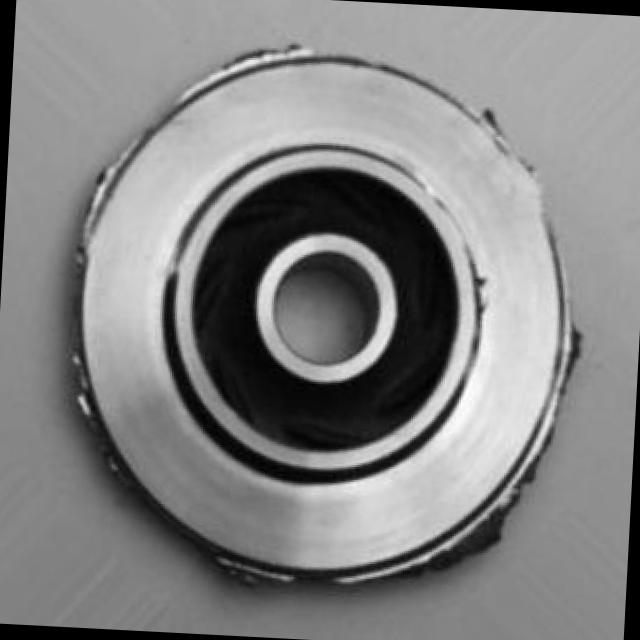Defect: (442, 454, 564, 584)
